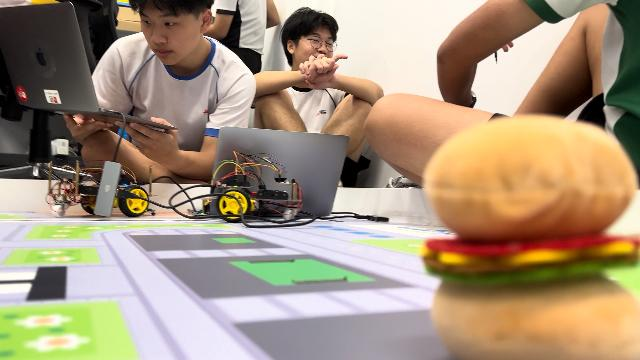burger: (418, 112, 640, 358)
